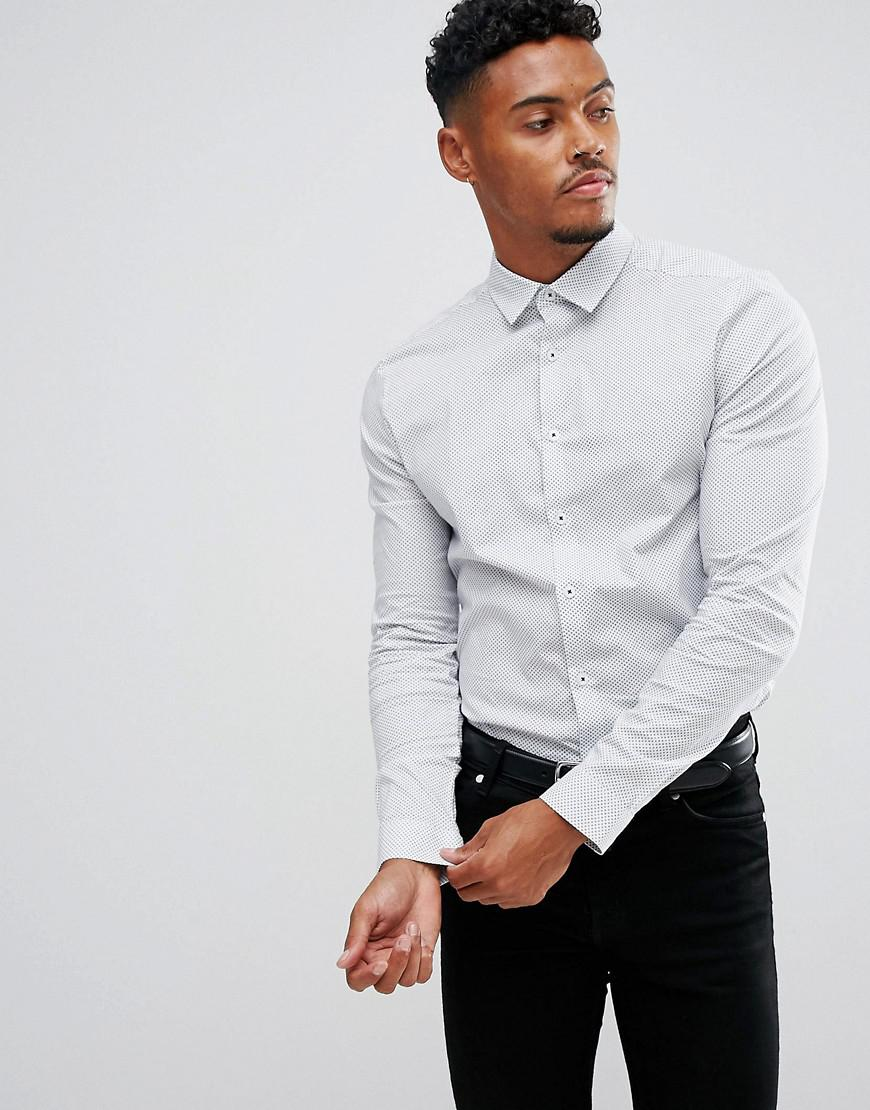teeshirt: (310, 235, 818, 873)
